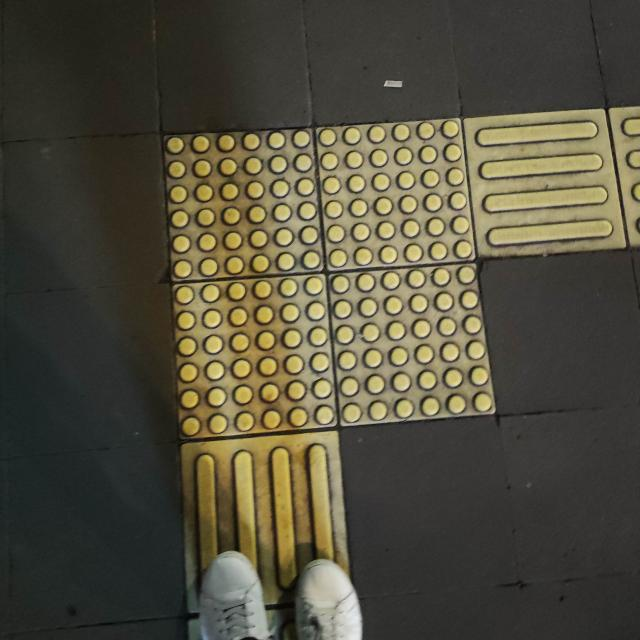kanan: (96, 50, 640, 559)
